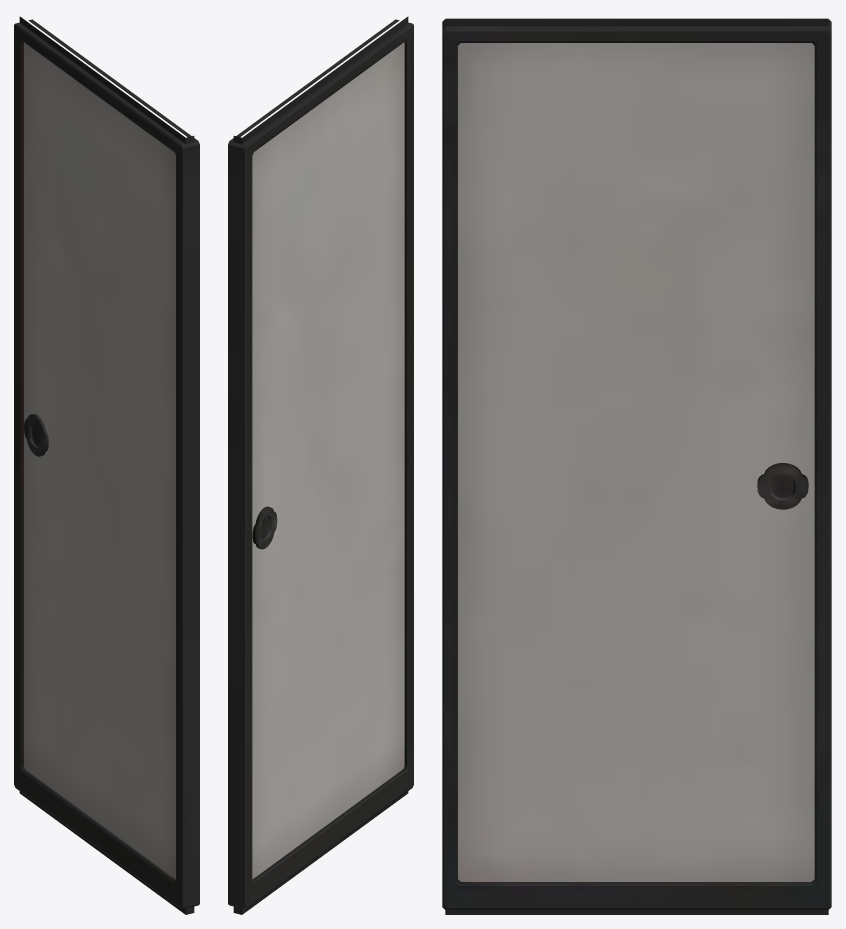
Rendered from Architecture_JapaneseStyle_DoorC_L_597c62.glb.
The picture shows the model from 3 angles, left to right: view 1: azimuth 30°, elevation 25°; view 2: azimuth 150°, elevation 25°; view 3: azimuth 270°, elevation 25°; orthographic projection. The views are drawn at different scales.
Size of the model in its own units: 0.0606 by 2.4 by 0.9465.
1 material, 1 textured.
